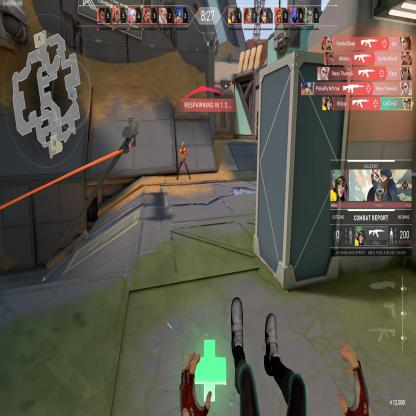enemy: (175, 140, 191, 182)
